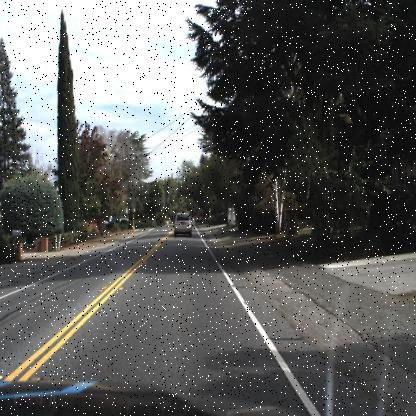car: (173, 209, 196, 238)
